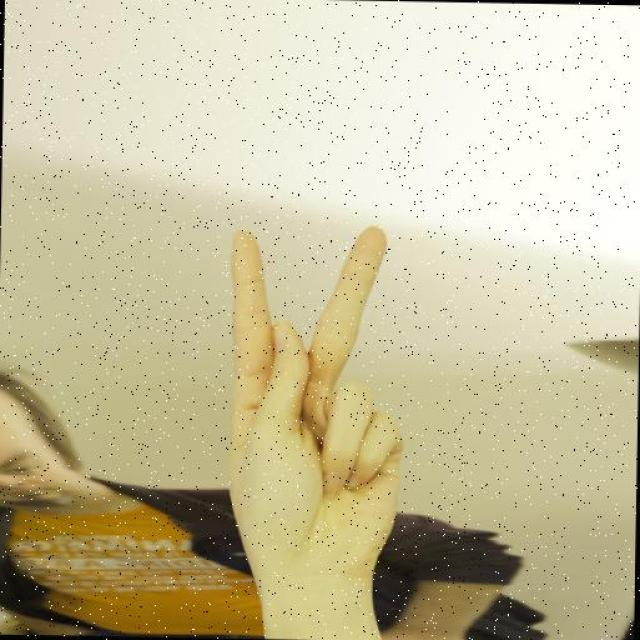K: (221, 219, 410, 589)
